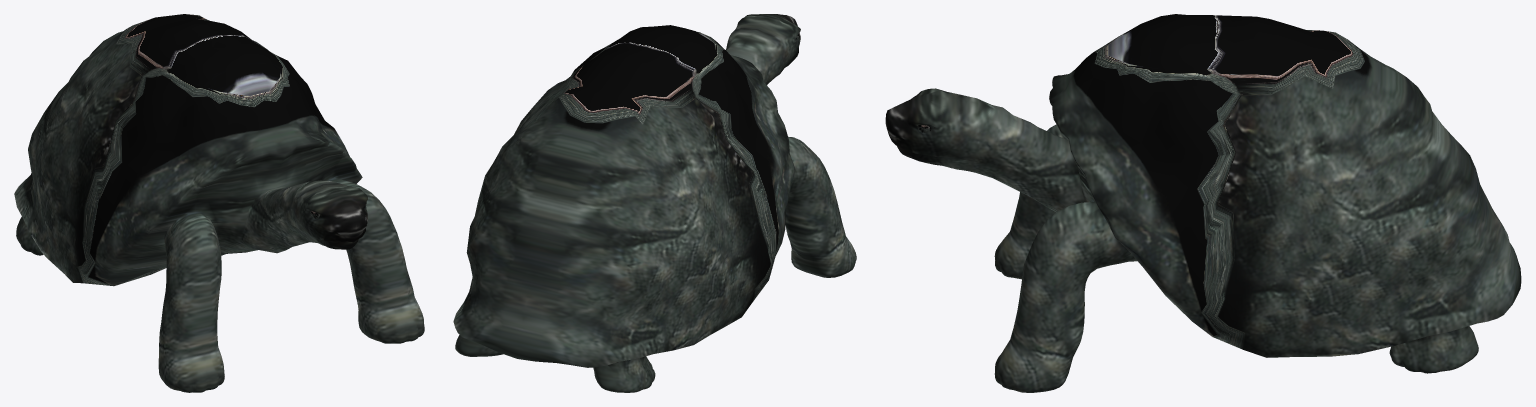
File: kura2.glb
3 views of the same model, side by side, from view 1: azimuth 30°, elevation 25°; view 2: azimuth 150°, elevation 25°; view 3: azimuth 270°, elevation 25° (orthographic). The views are drawn at different scales.
Parts seen in each view (by area): view 1: TORTOISE; view 2: TORTOISE; view 3: TORTOISE.
Part boxes in pixels (left/top/right/bottom): TORTOISE: left=14, top=14, right=424, bottom=392; TORTOISE: left=453, top=14, right=856, bottom=392; TORTOISE: left=885, top=14, right=1521, bottom=392.
Bounding box in the file's own units: 1.97 × 1.95 × 3.71.
Materials: 1 (1 with a texture image).
